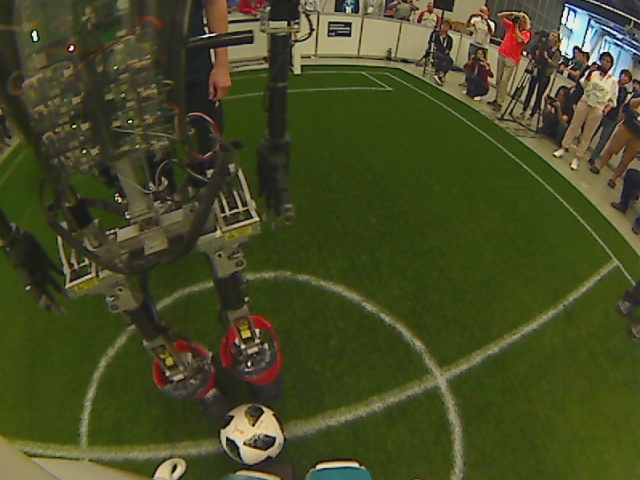ball: (215, 400, 288, 469)
